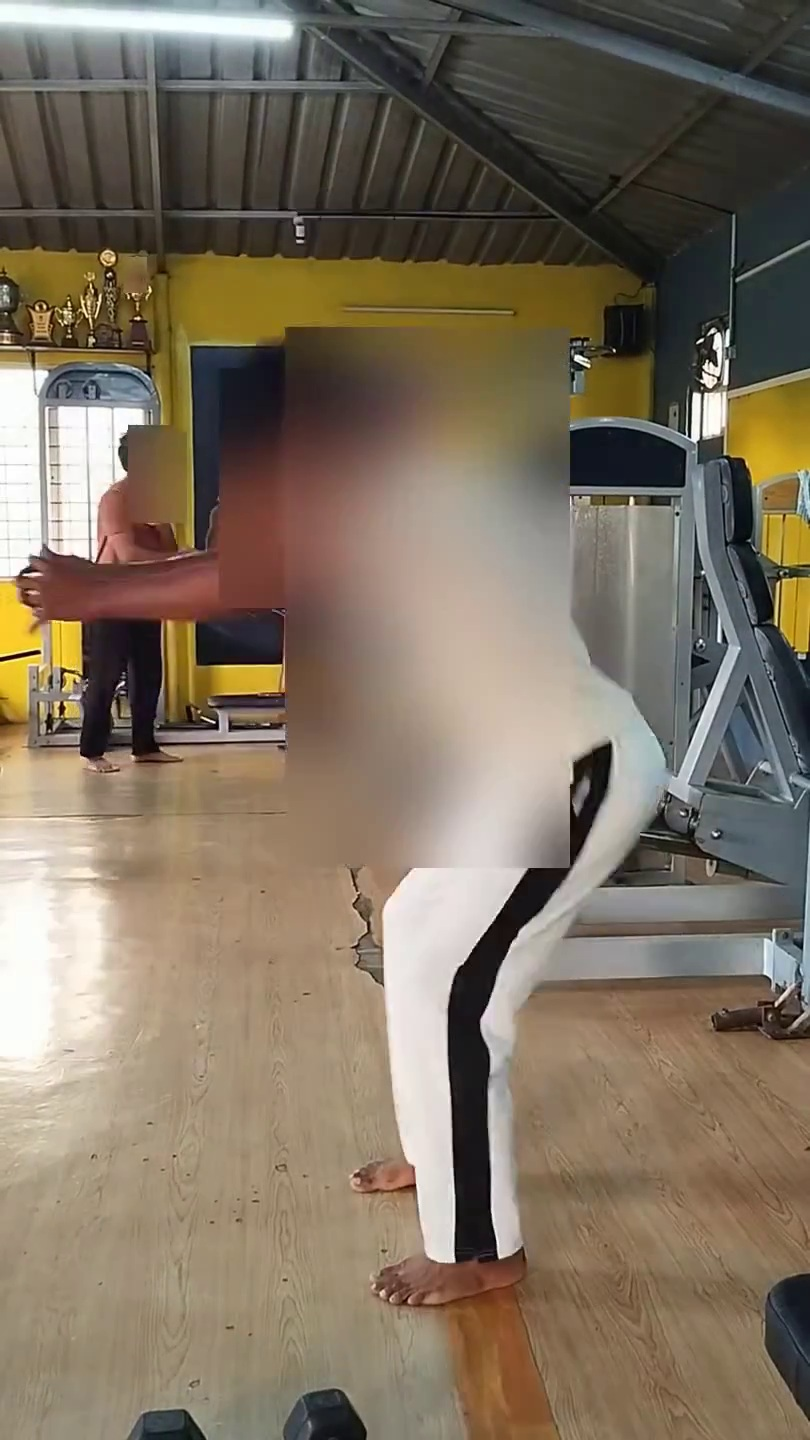squat_incorrect: (434, 781, 717, 1165)
